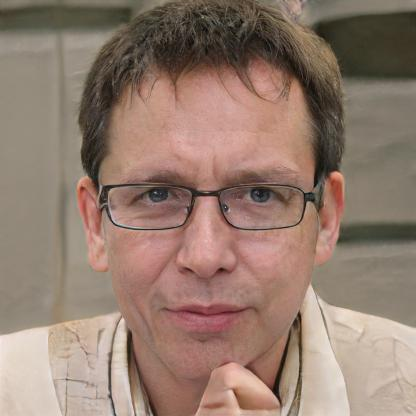glasses: (96, 173, 326, 240)
